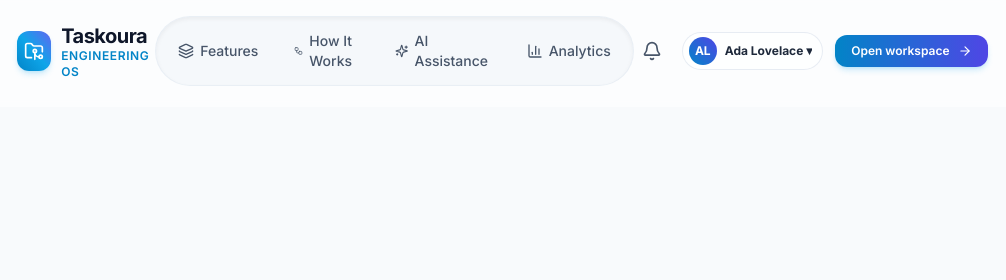
Test: MODULE F16: Profile and Password Reset › User Menu and Navigation › user menu opens on avatar click and contains link to Profile
Note: Click user menu button
Click the button with test id "user-menu-btn".
click(752, 51)  # box [682,32,823,70]
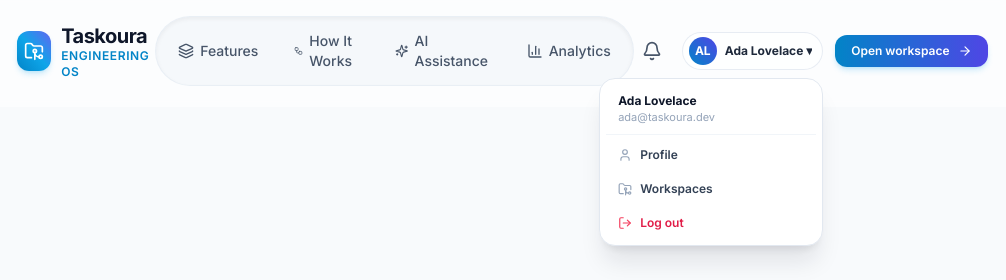
Expected: the element with test id "user-menu" is shown, [599,78,823,246]
